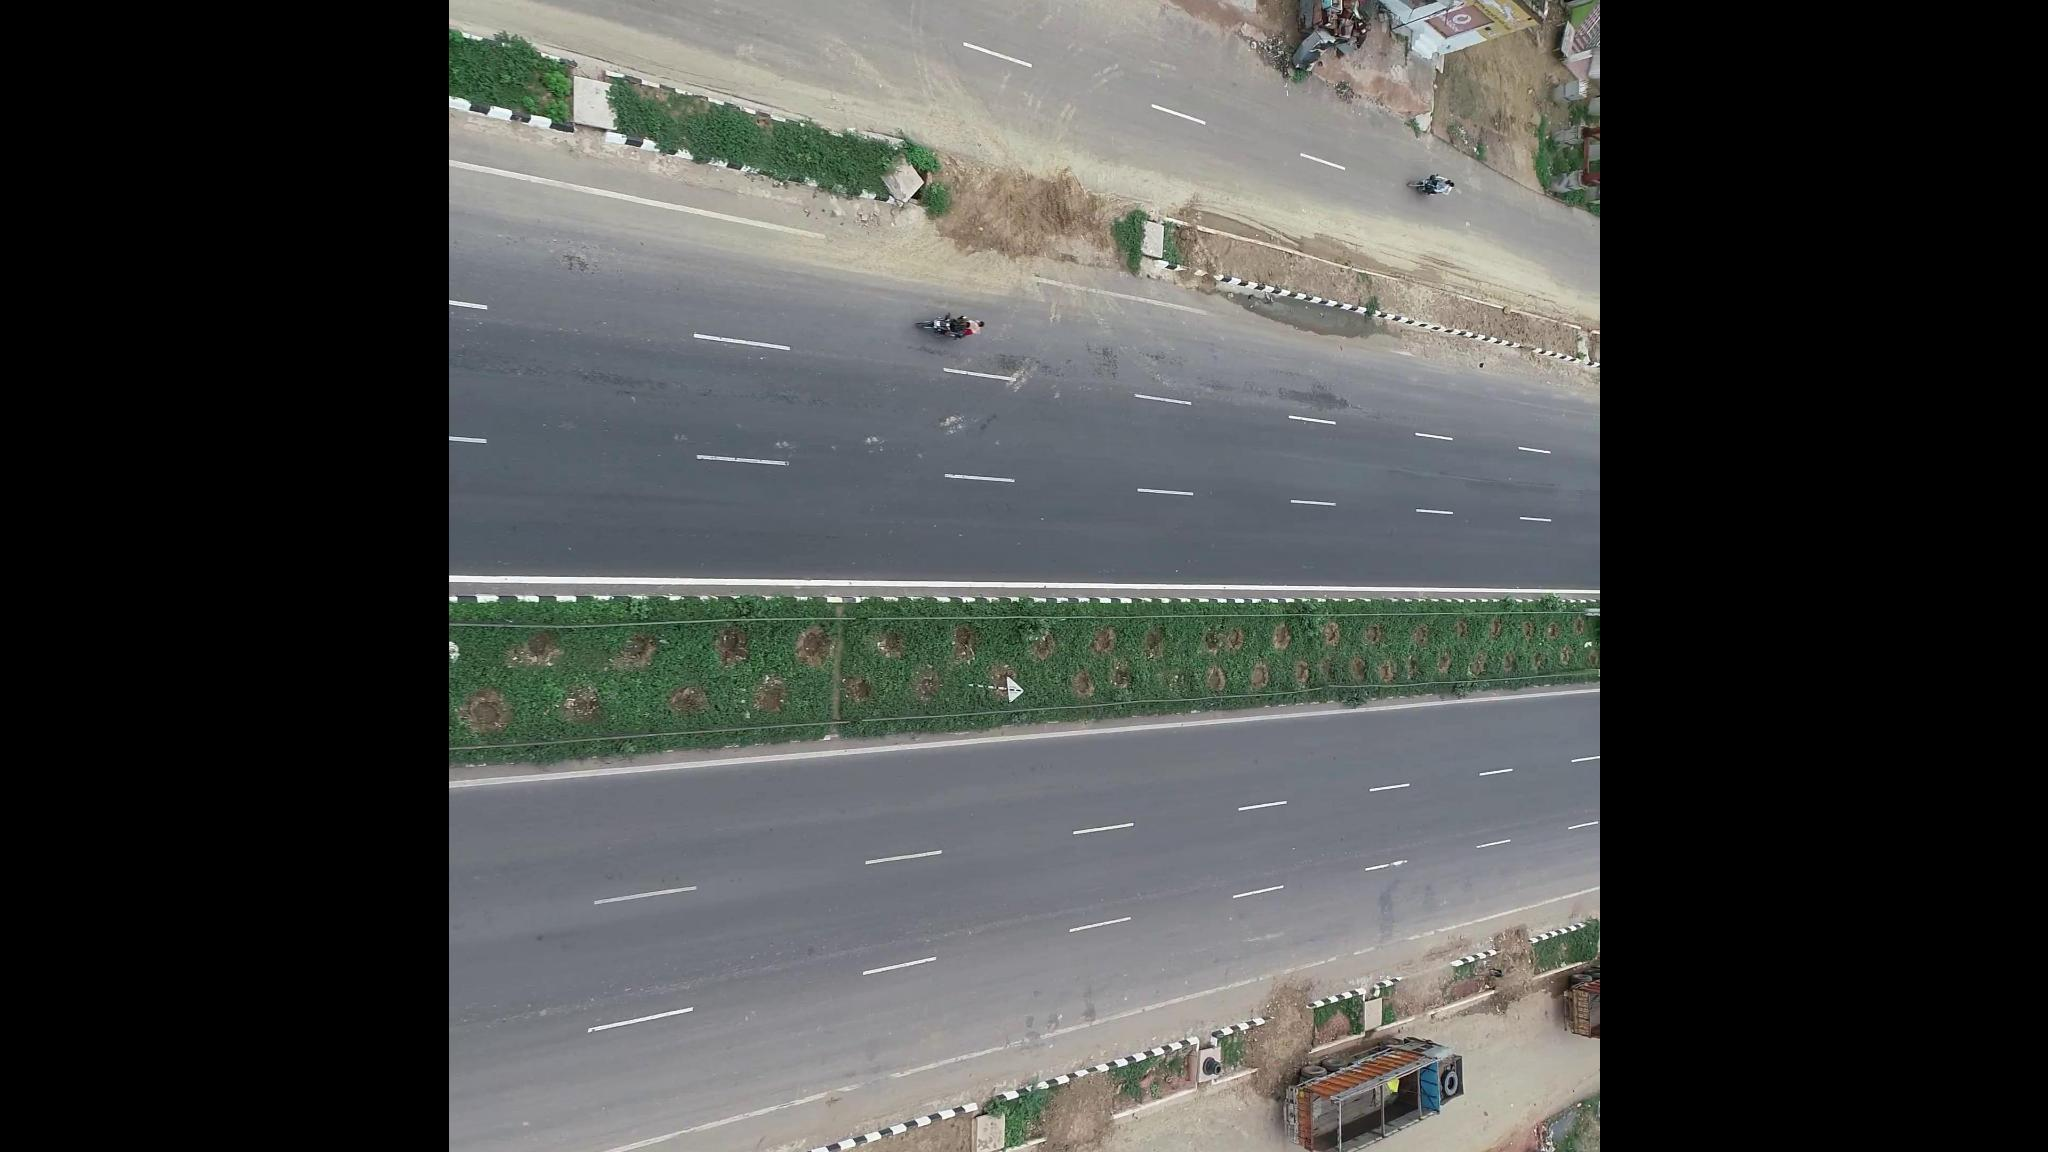Ravelling: (1187, 366, 1380, 418)
